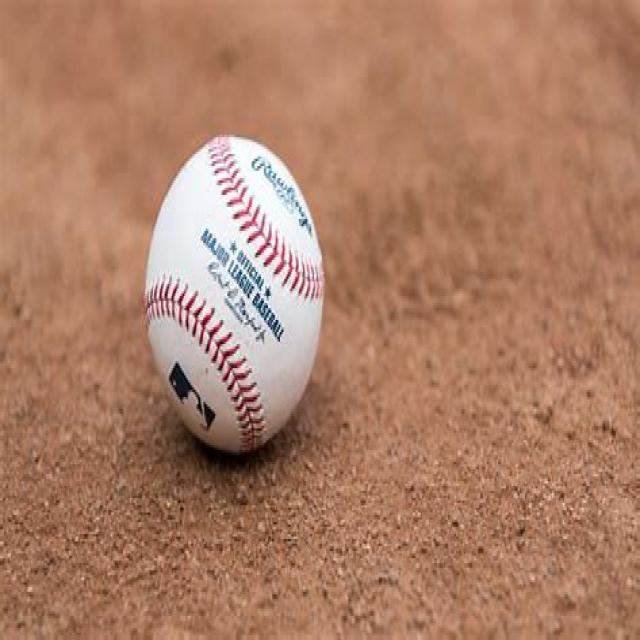ball: (142, 132, 327, 456)
